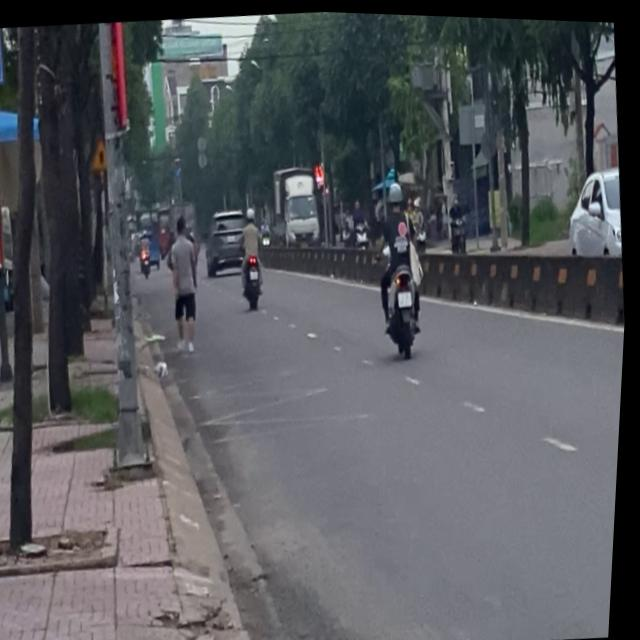helmet: (387, 175, 406, 205)
licenseplate: (369, 172, 437, 356)
nohelmet: (399, 285, 414, 303)
